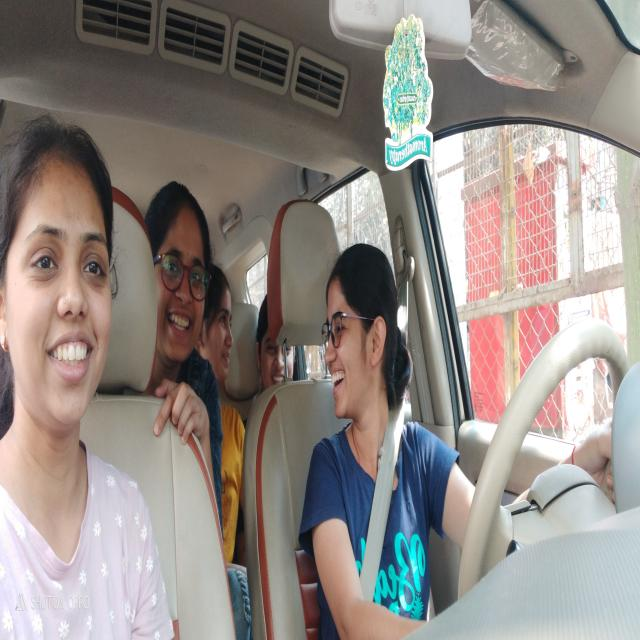LeftRight: (322, 237, 405, 422)
person: (1, 114, 122, 426), (151, 177, 213, 363), (258, 292, 300, 392), (203, 268, 234, 390)
talking: (329, 365, 351, 398)
